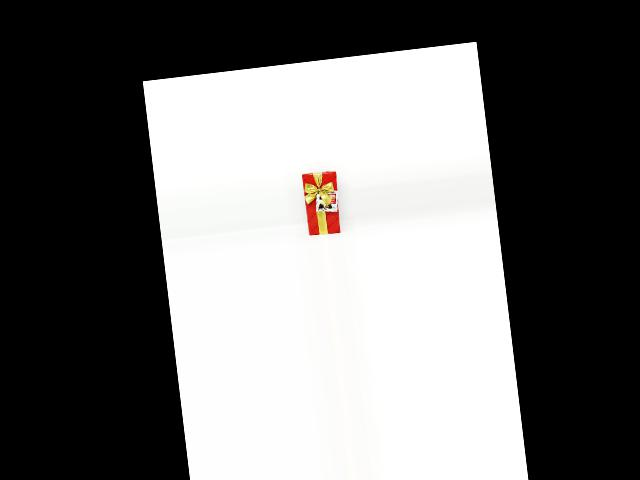chocolate: (298, 168, 342, 236)
